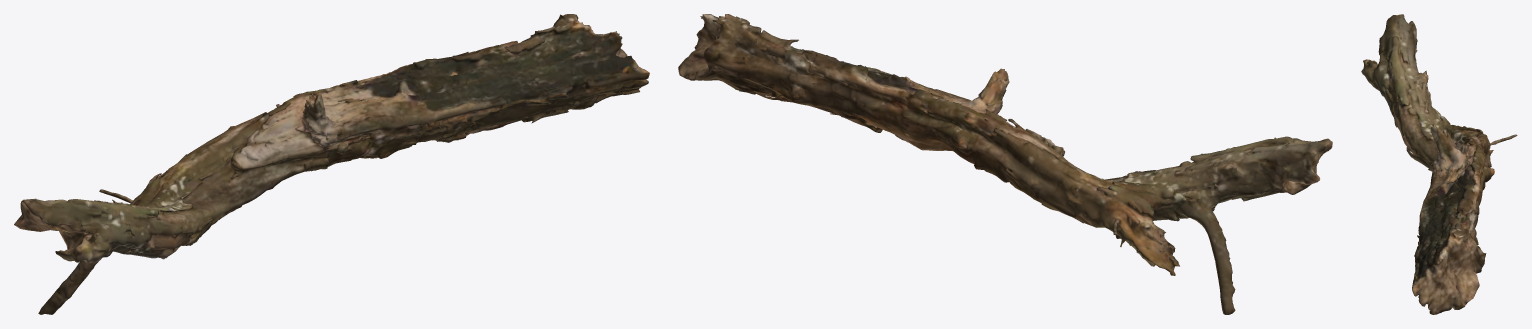
The model's file is dead_tree_trunk_02_lod1.glb.
3 renders of one model, left to right at view 1: azimuth 30°, elevation 25°; view 2: azimuth 150°, elevation 25°; view 3: azimuth 270°, elevation 25°, orthographic. The views are drawn at different scales.
Visible parts, largest first — view 1: dead_tree_trunk_02; view 2: dead_tree_trunk_02; view 3: dead_tree_trunk_02.
Boxes of the visible parts, x1,y1,x2,y2 form: dead_tree_trunk_02: [14, 14, 649, 314]; dead_tree_trunk_02: [678, 14, 1332, 314]; dead_tree_trunk_02: [1361, 14, 1517, 314].
Size of the model in its own units: 4.05 by 1.05 by 1.06.
1 material, 1 textured.
